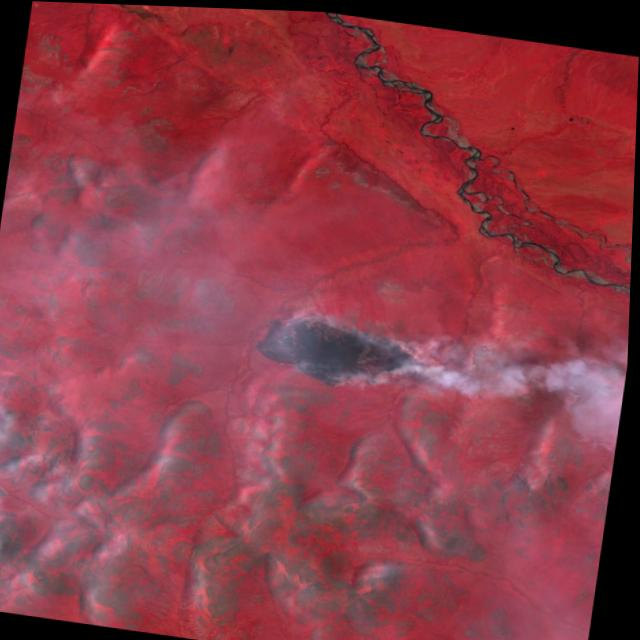fire: (244, 302, 434, 396)
